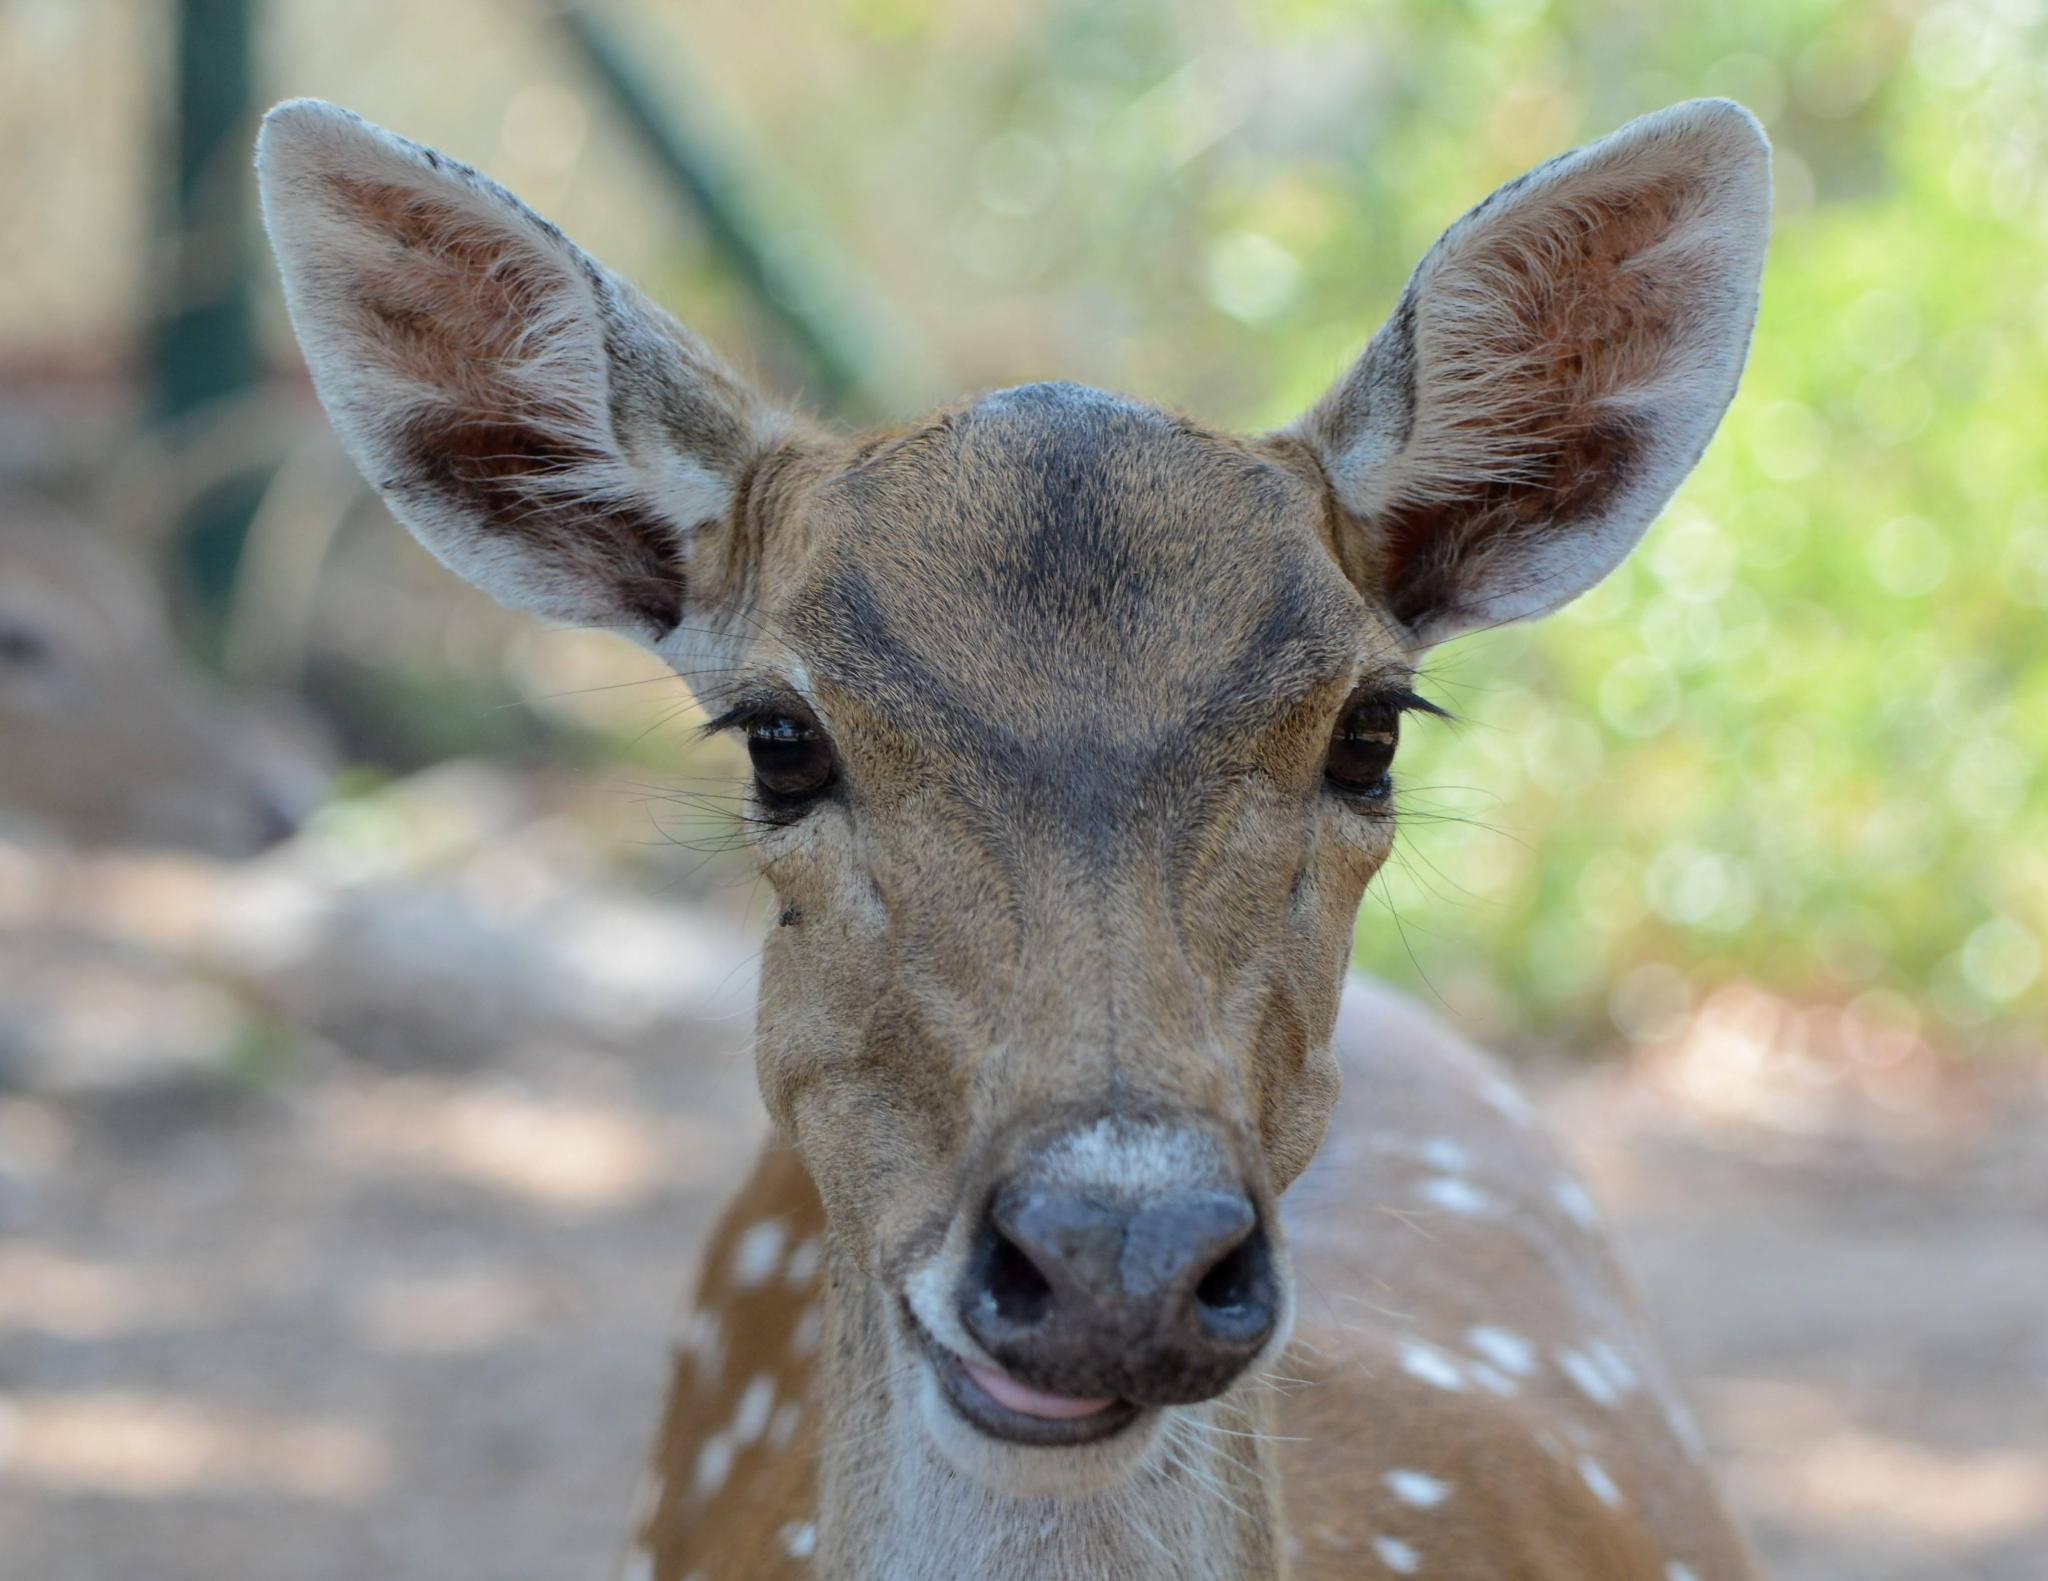Deer: (259, 100, 1771, 1579)
